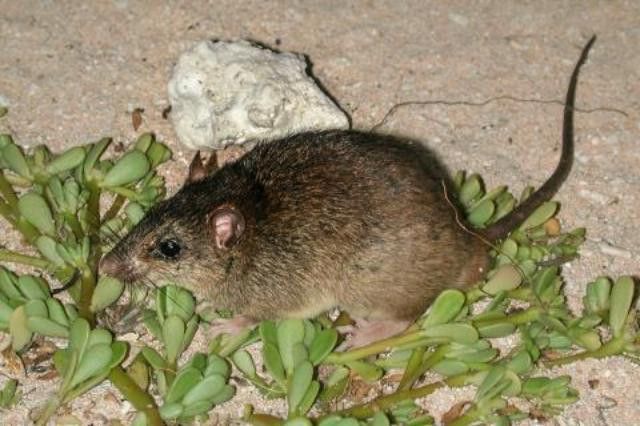rat: (80, 101, 584, 365)
